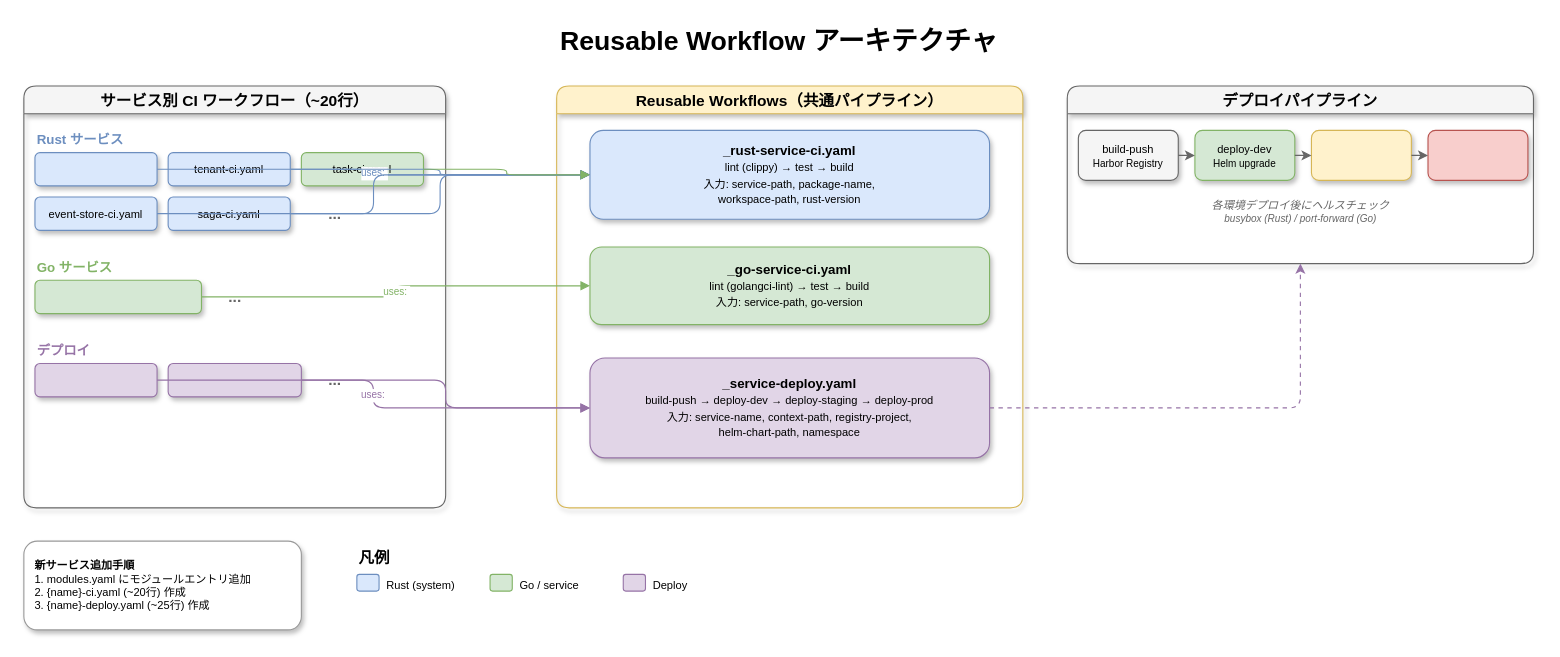
Image size: 1560x657. Some labels were removed from this diagram. Here are the shapes that lost their labels. From the top down, the centre of each, then its label:
At (x=96, y=170): "auth-ci.yaml".
At (x=1362, y=156): "deploy-stg Helm upgrade".
At (x=1478, y=156): "deploy-prod Helm upgrade".
At (x=118, y=298): "building-blocks-ci.yaml".
At (x=96, y=381): "auth-deploy.yaml".
At (x=235, y=381): "tenant-deploy.yaml".
